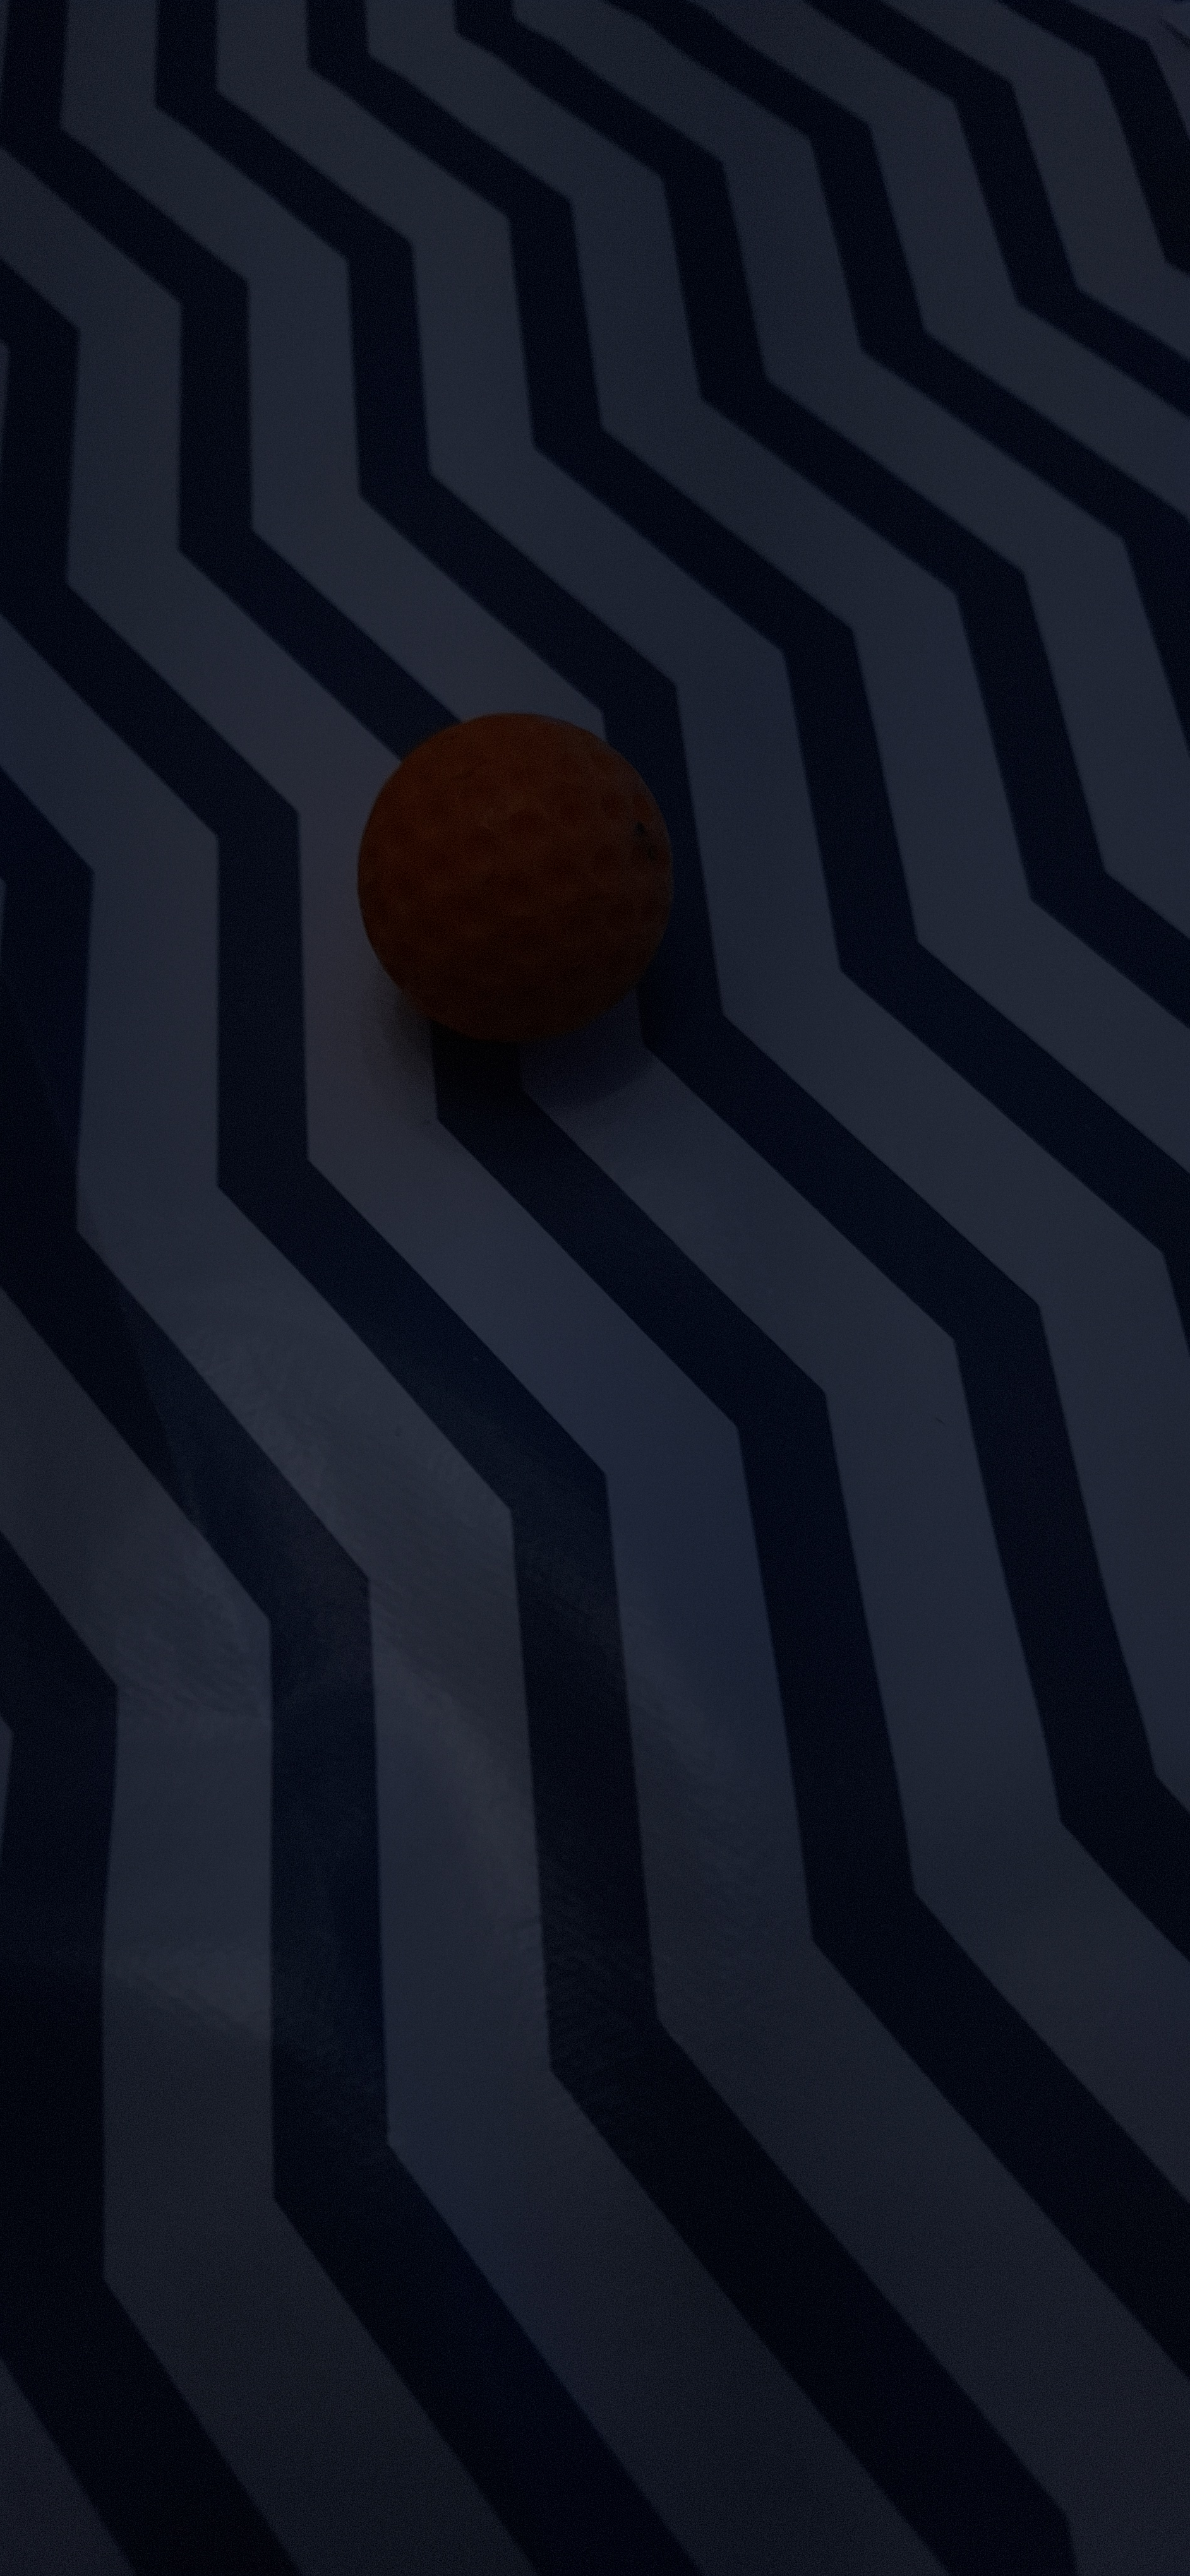ball: (330, 1120, 480, 1814)
